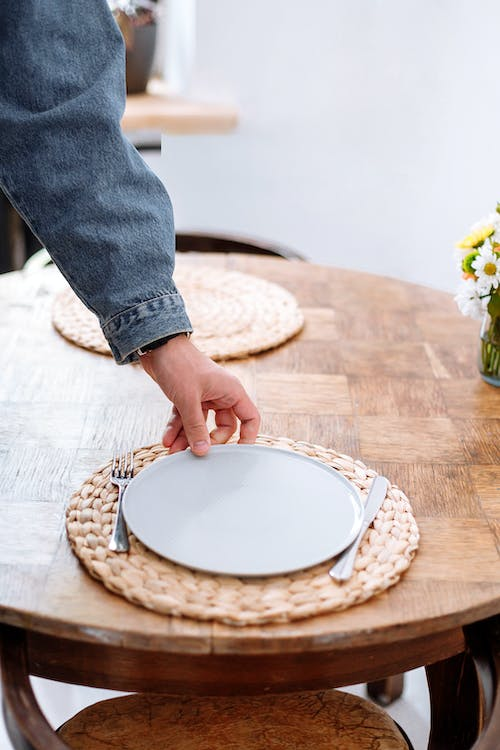knife: (326, 472, 391, 588)
